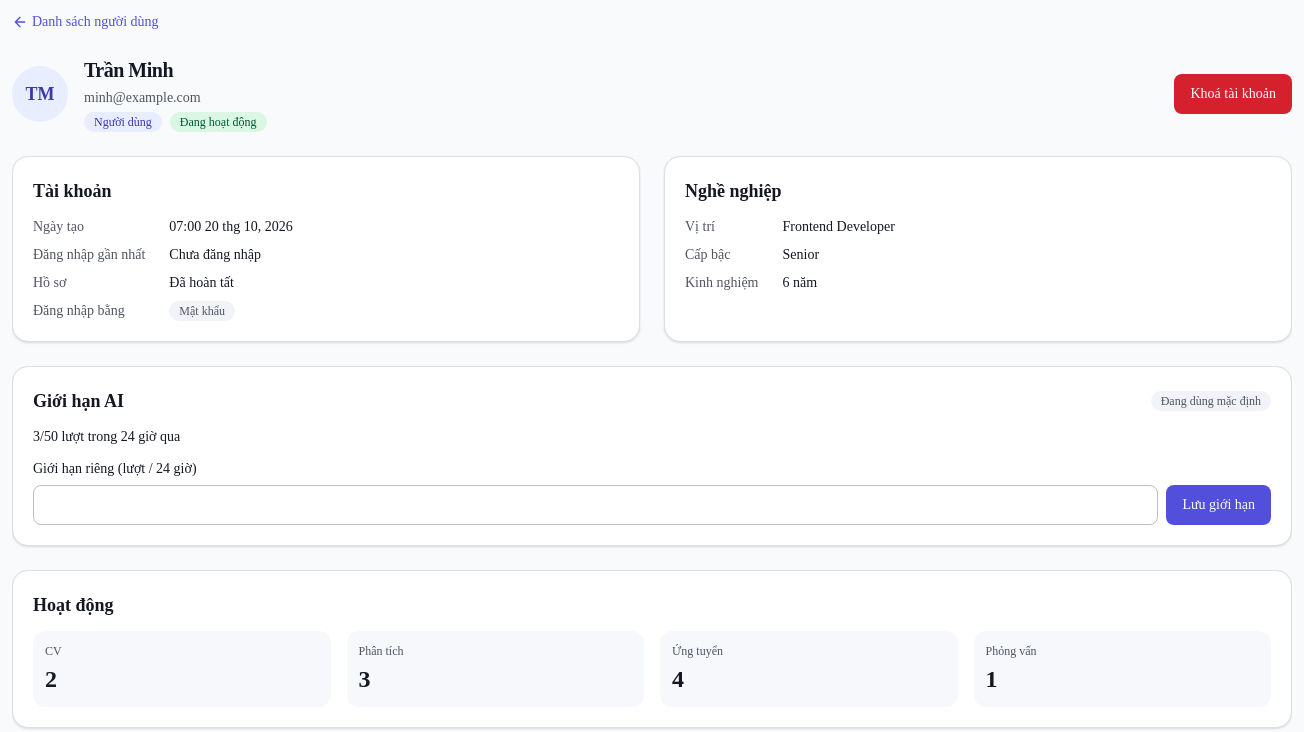
Test: AdminUserView › shows AI usage and sets an own limit
This screenshot has width=1304, height=732.
Expected: the text "3/50 lượt trong 24 giờ qua" is shown, [33,429,180,444]
Expected: the text "Đang dùng mặc định" is shown, [1151,391,1271,411]
Type "10" into the number field labelled "Giới hạn riêng (lượt / 24 giờ)". click: (596, 505)
box: [33,485,1158,525]
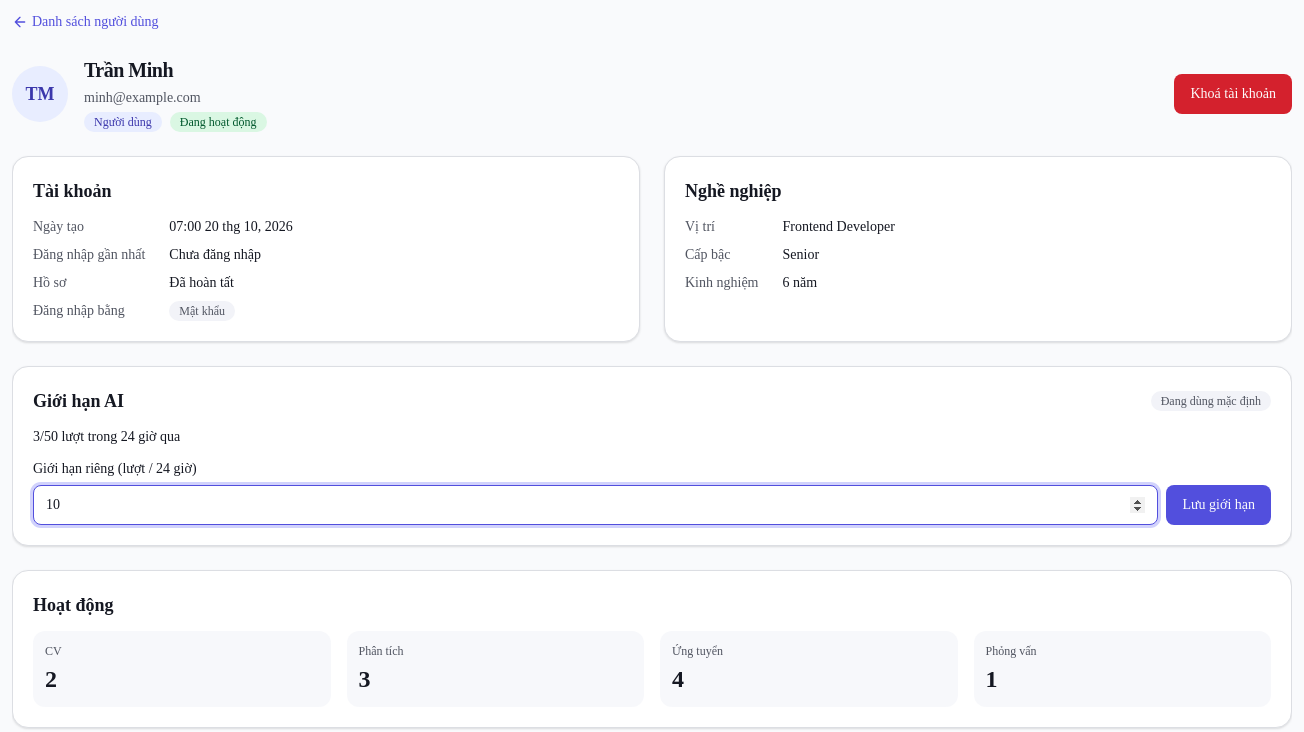
Click the button "Lưu giới hạn". click: click(1219, 505)
box: [1166,485,1271,525]
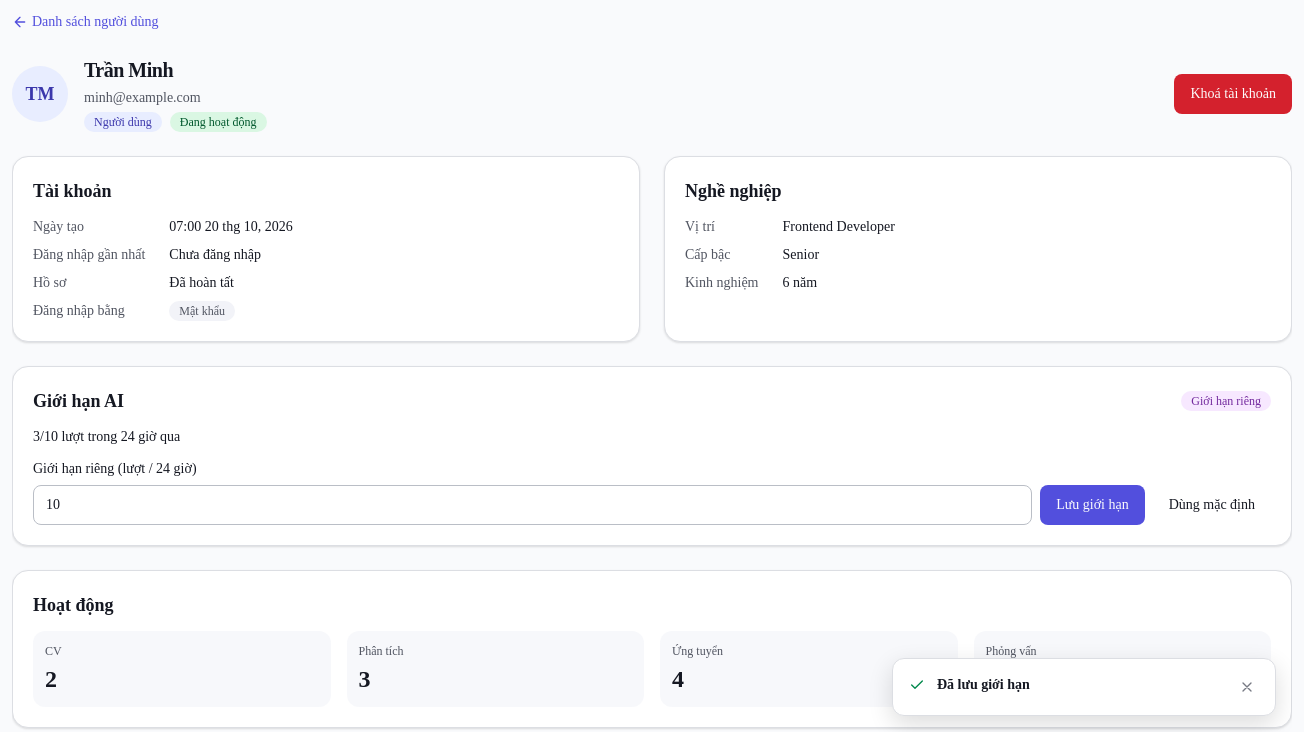
Expected: the text "3/10 lượt trong 24 giờ qua" is shown, [33,429,180,444]
Expected: the text "Giới hạn riêng" is shown, [1181,391,1271,411]
